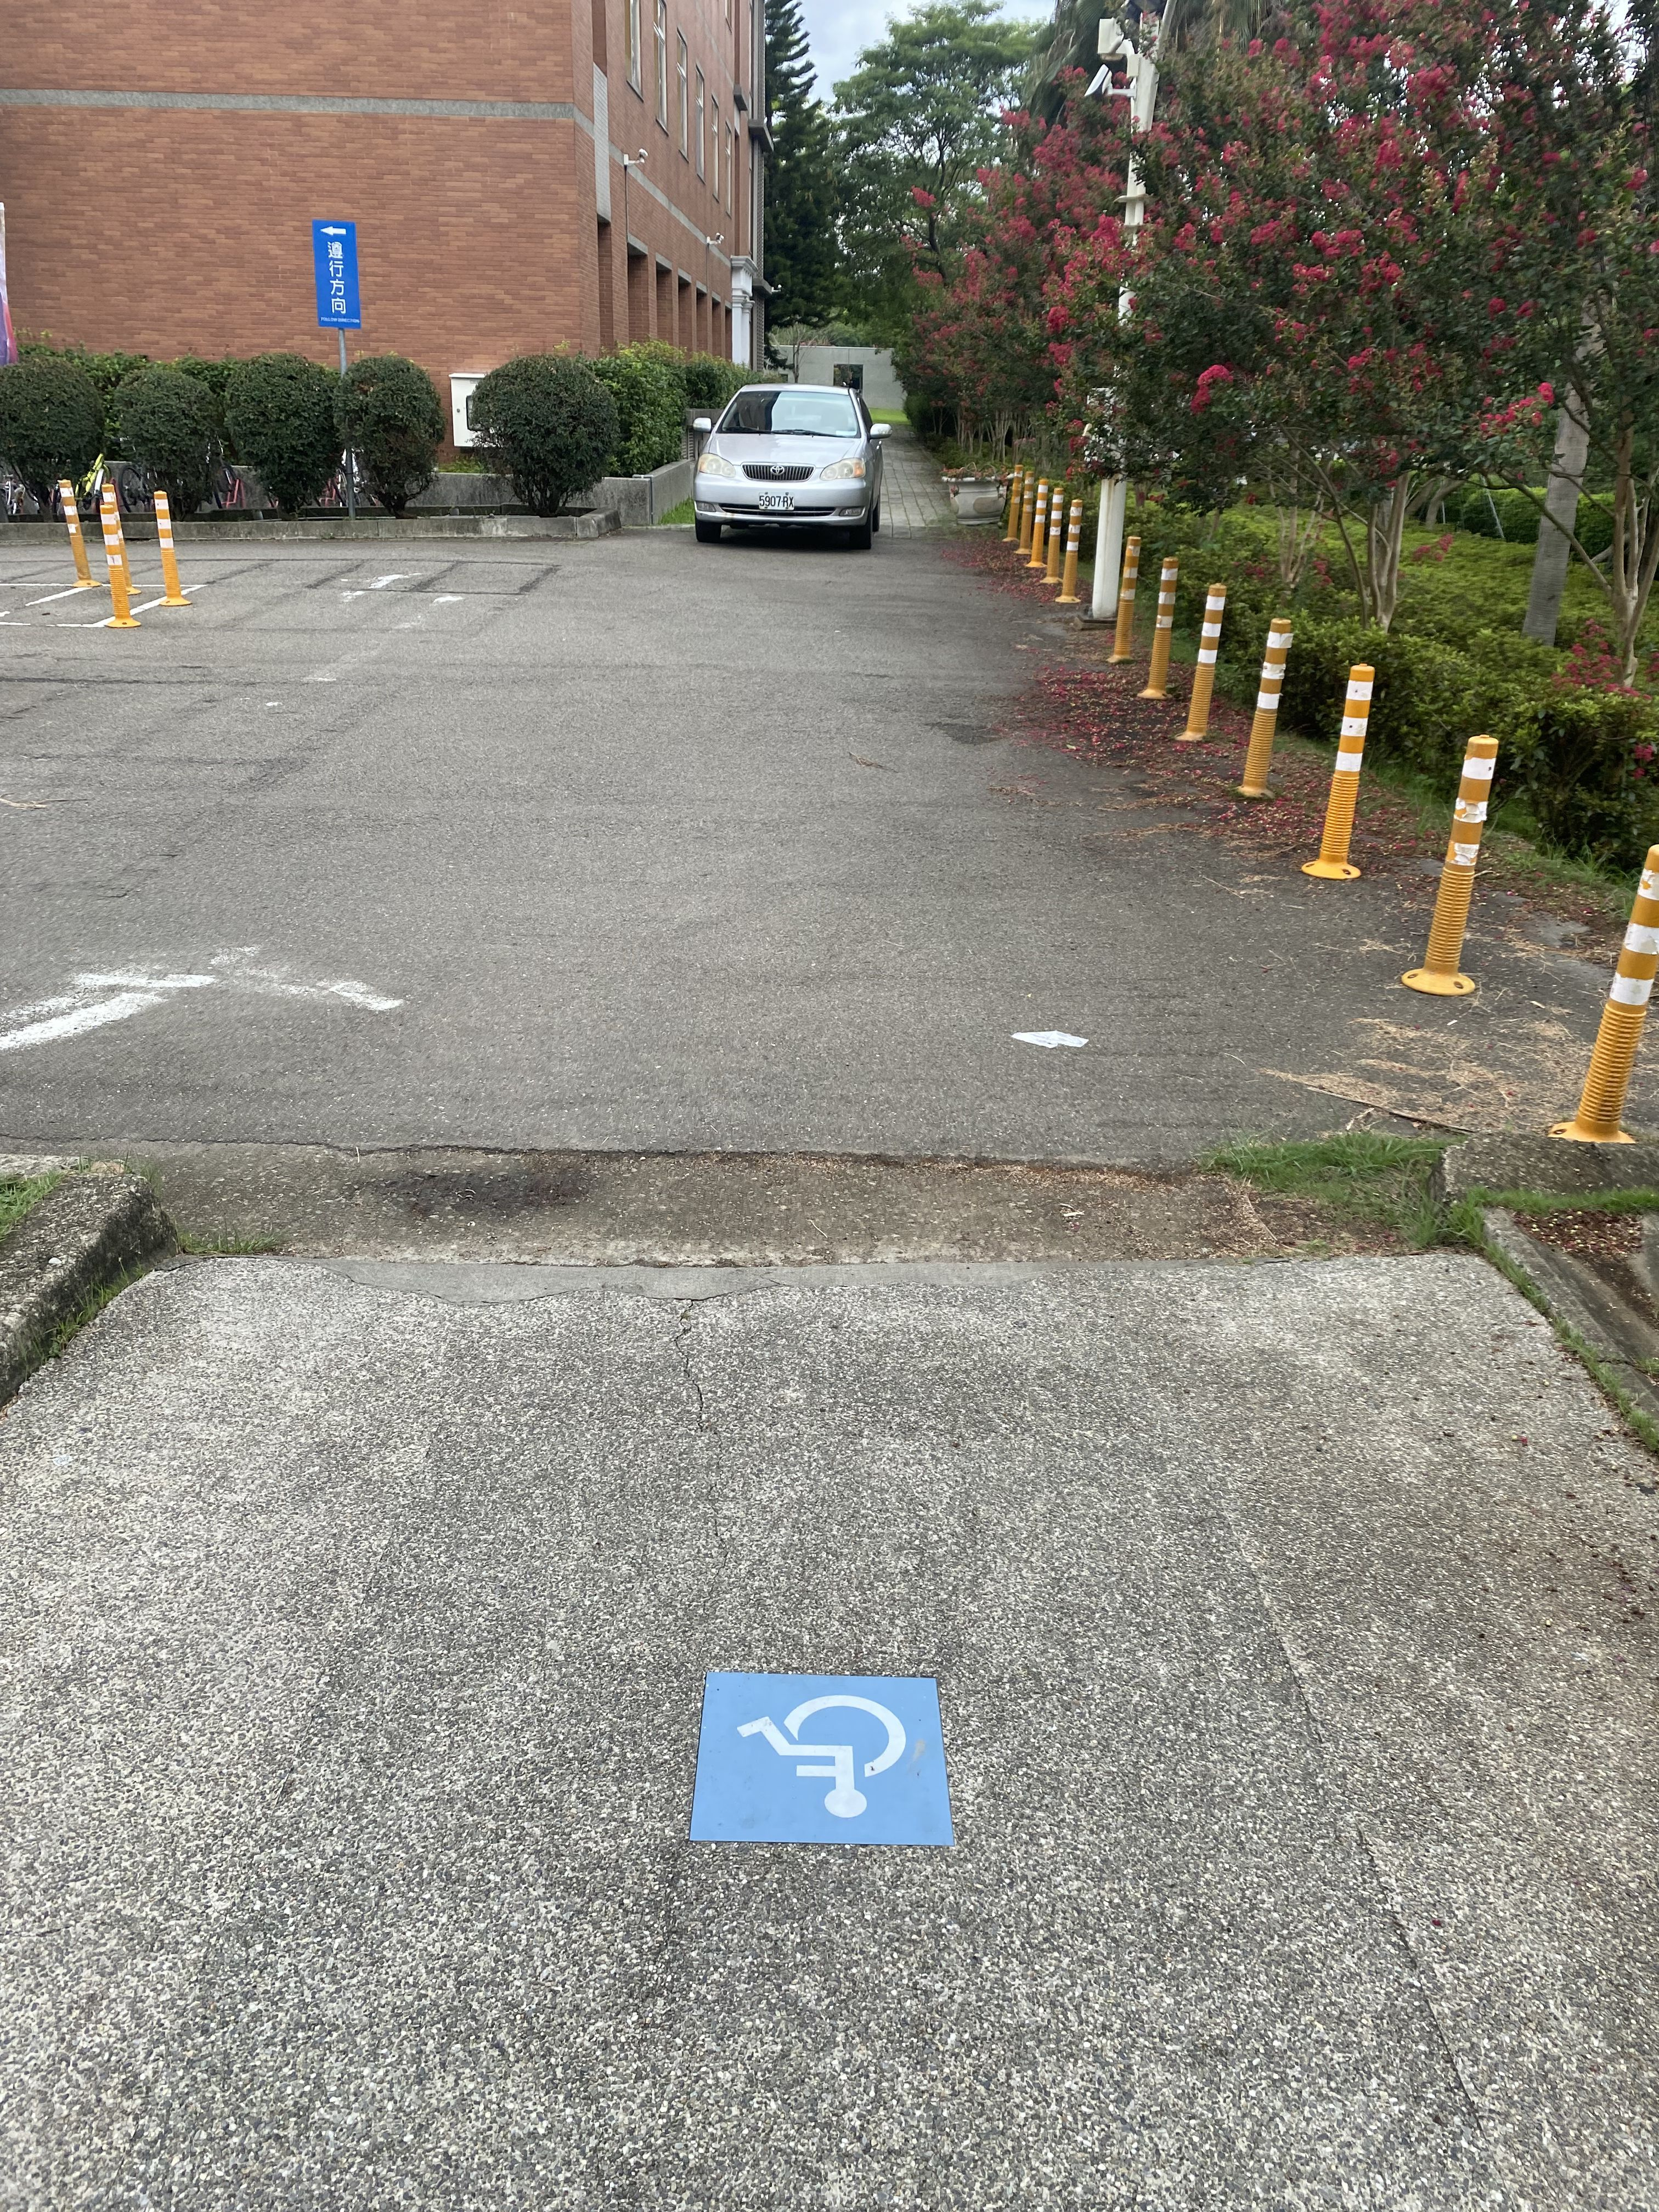sidewalk: (0, 381, 1659, 2205)
